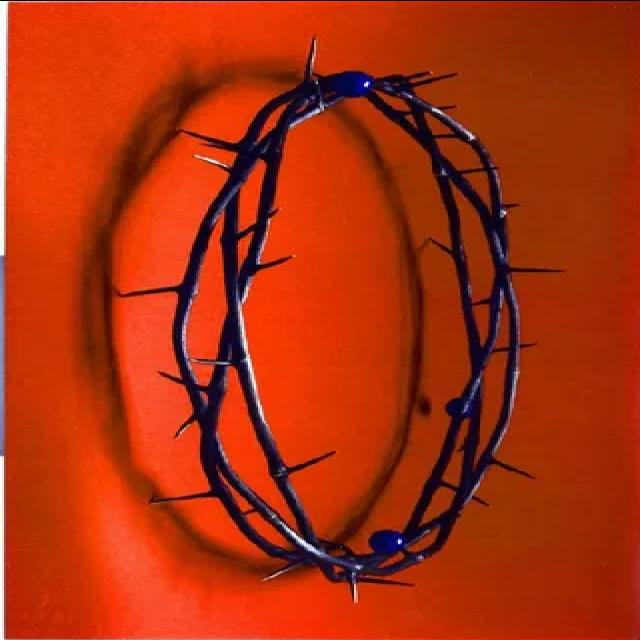crown: (135, 47, 545, 595)
